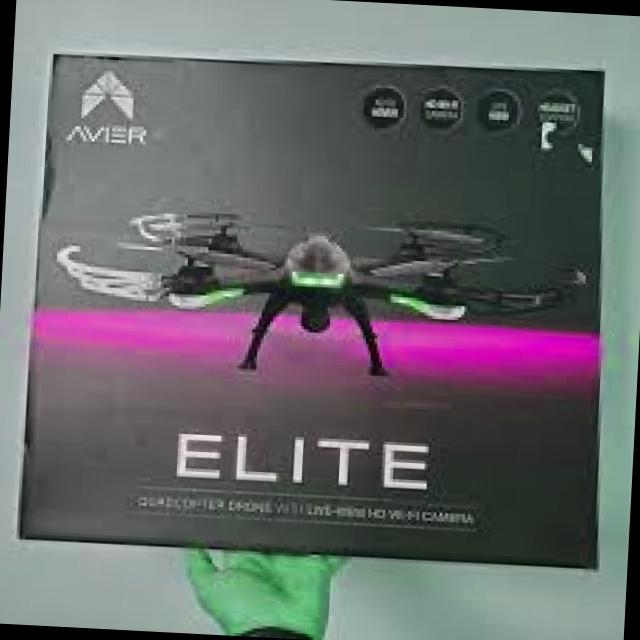drone: (48, 176, 593, 394)
